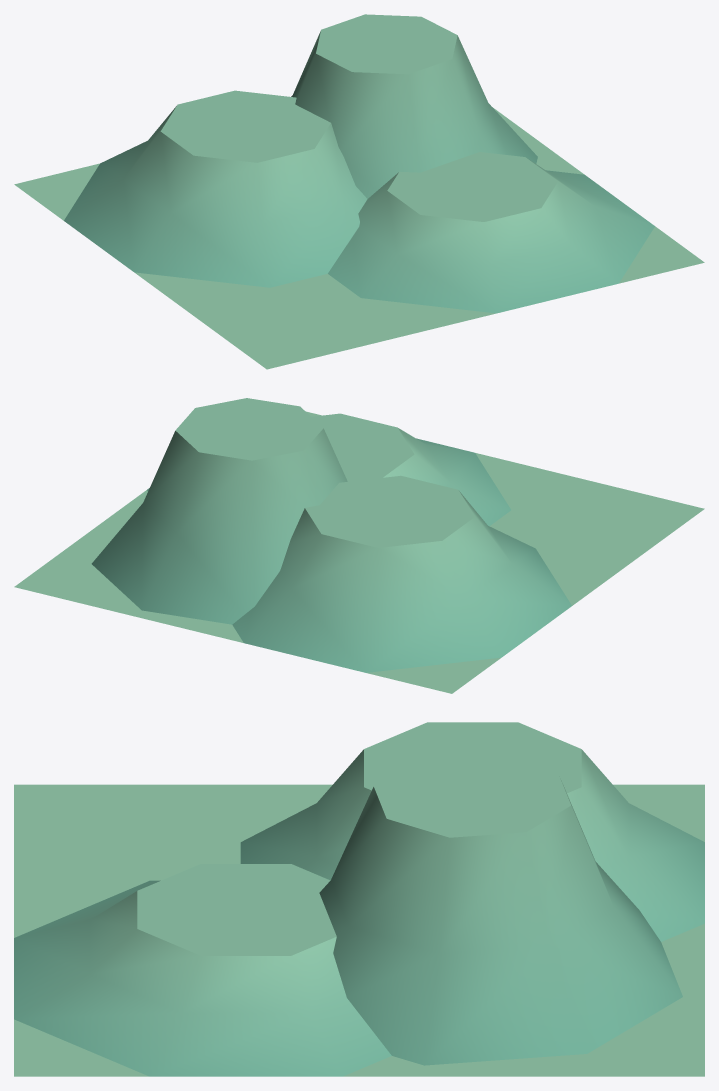
The model's file is ground-hills.glb.
The picture shows the model from 3 angles, top to bottom: view 1: azimuth 30°, elevation 25°; view 2: azimuth 150°, elevation 25°; view 3: azimuth 270°, elevation 25°; orthographic projection. The views are drawn at different scales.
Visible parts, largest first — view 1: ground-hills; view 2: ground-hills; view 3: ground-hills.
Part boxes in pixels (left/top/right/bottom): ground-hills: left=14, top=14, right=704, bottom=369; ground-hills: left=14, top=398, right=704, bottom=693; ground-hills: left=14, top=722, right=704, bottom=1076.
Size of the model in its own units: 1 by 0.2883 by 1.
